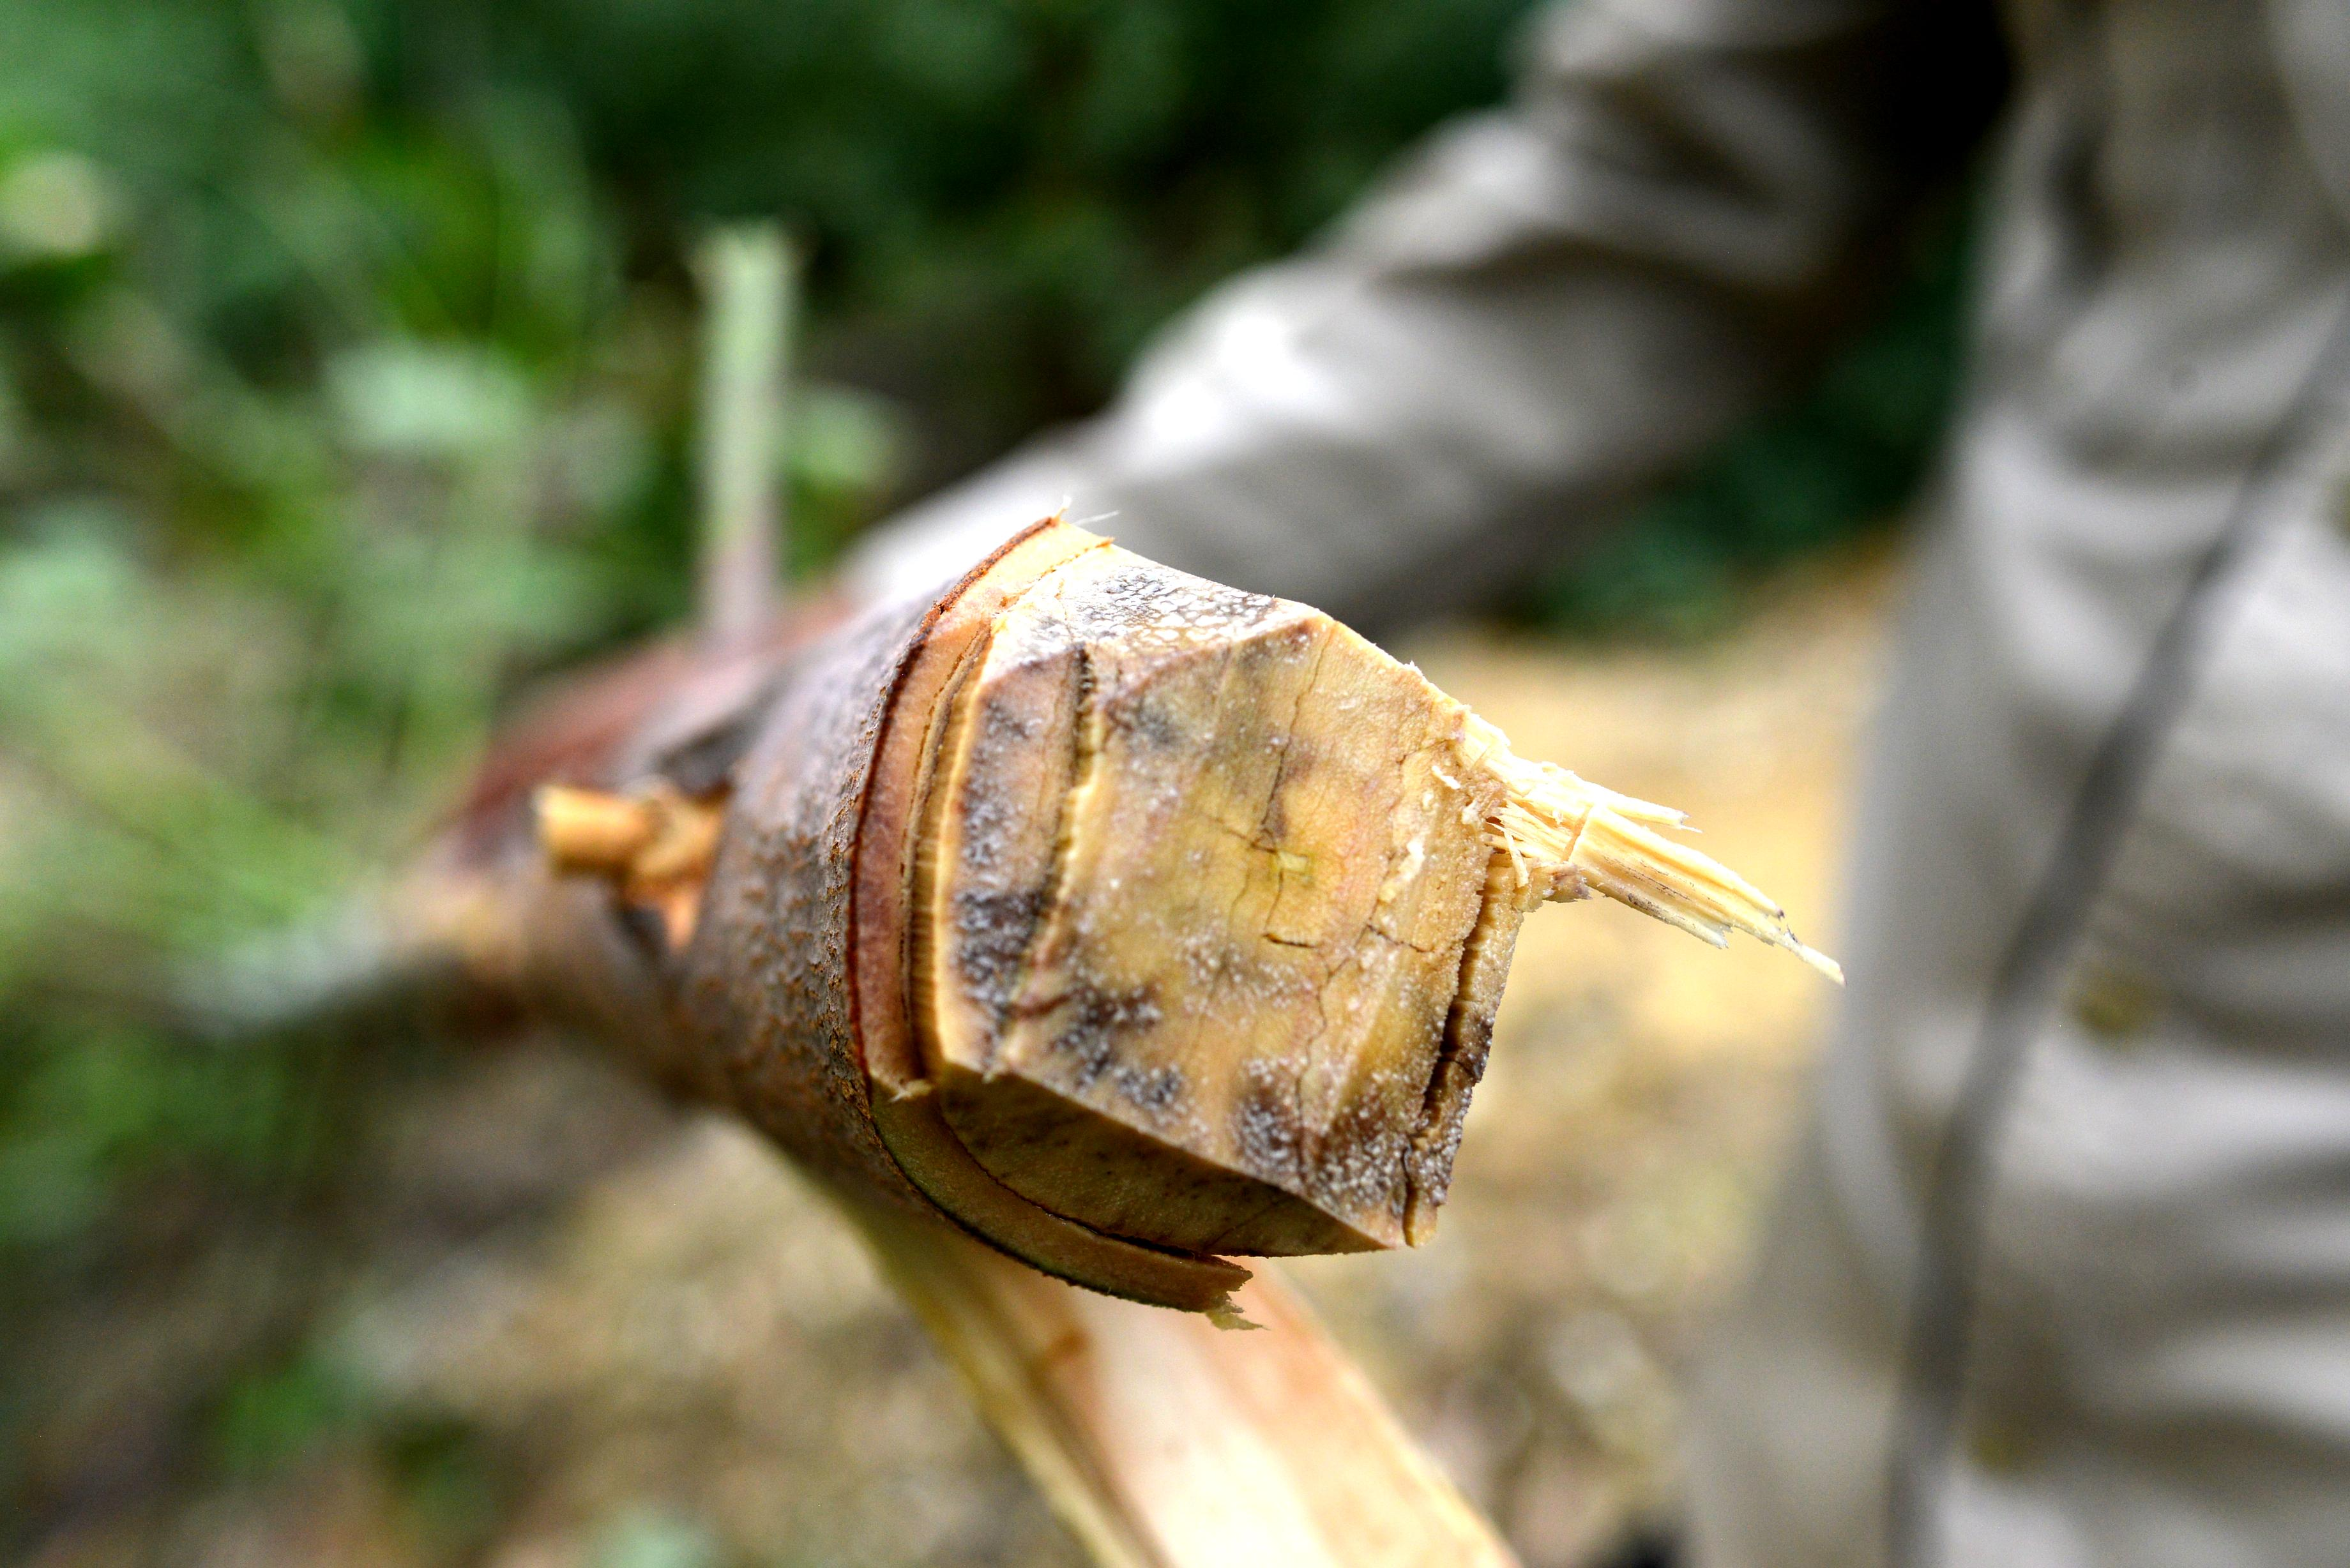Ralstonia: (952, 751, 1192, 1136), (1000, 540, 1322, 722), (1233, 1016, 1473, 1230)
